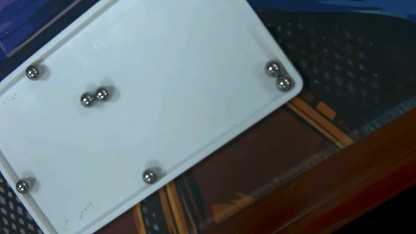ironball: (20, 61, 48, 82), (93, 82, 115, 104), (258, 58, 281, 77), (274, 74, 295, 91), (140, 166, 158, 183), (76, 90, 93, 106), (14, 179, 27, 194)
